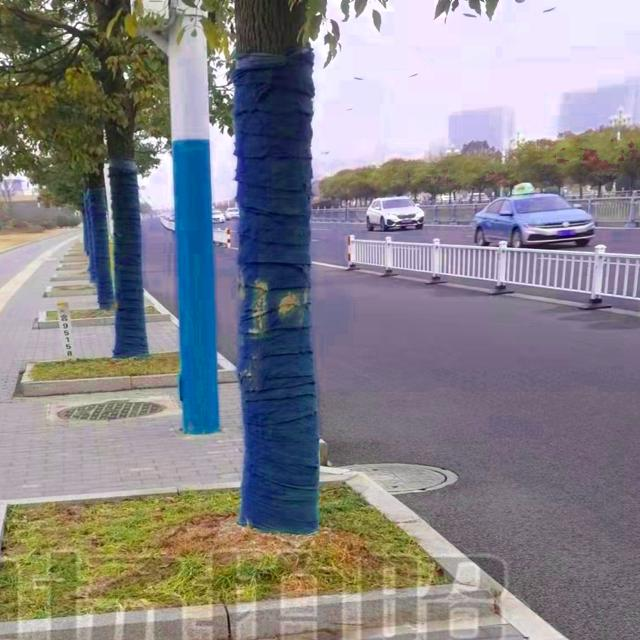good: (337, 458, 458, 494), (52, 398, 167, 422)
